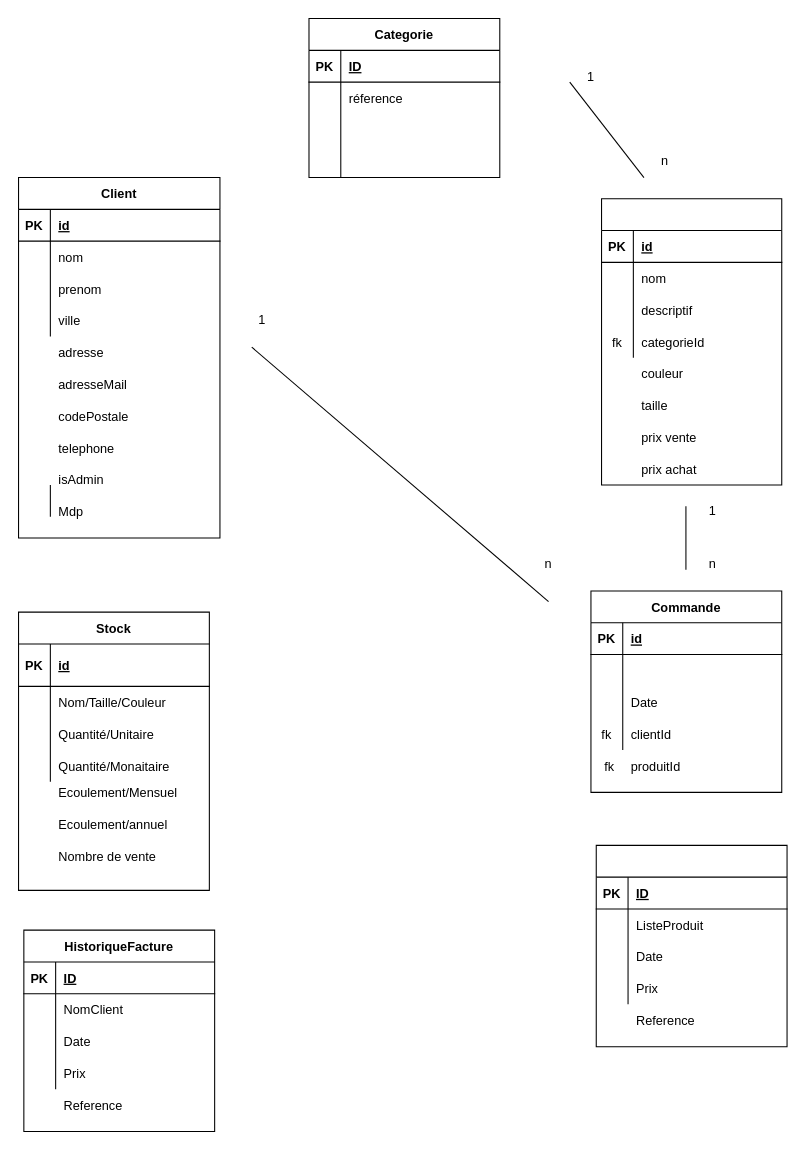
This 811x1150 diagram has some shape labels left out. The shapes that lost their labels are listed below. From the top down, each one's box as (x1, y1, x2, y2) in pixels, then its label:
(600, 198, 782, 485): Produit
(595, 844, 787, 1047): Facture
